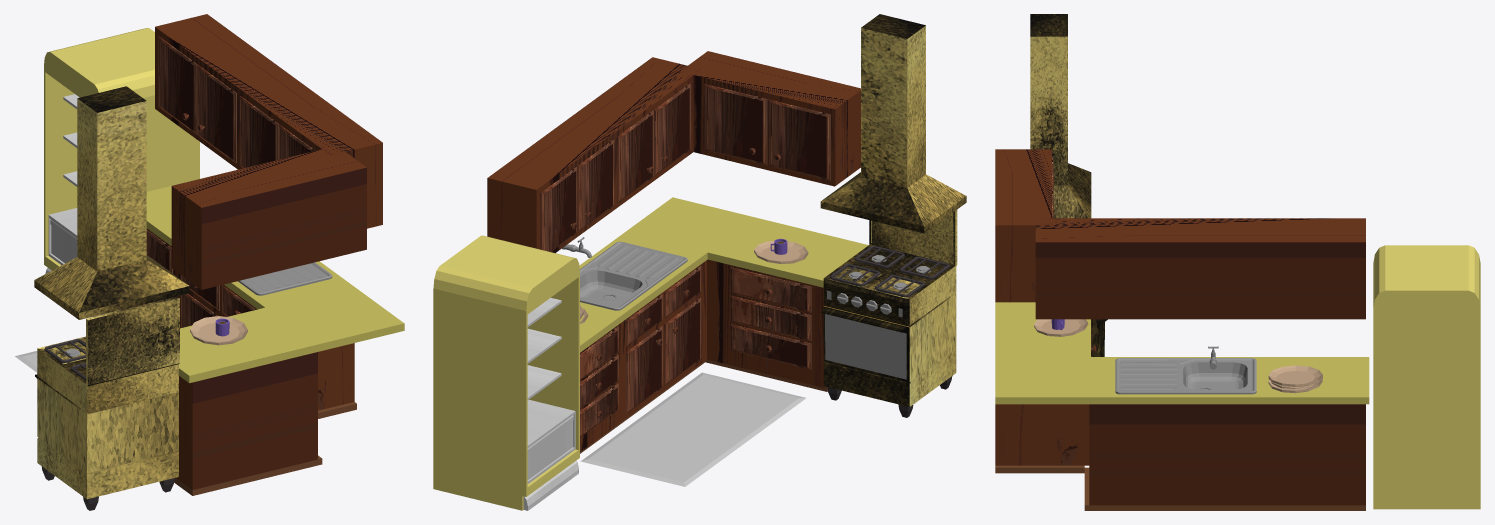
The model's file is Quarto2.fbx.
3 renders of one model, left to right at view 1: azimuth 30°, elevation 25°; view 2: azimuth 150°, elevation 25°; view 3: azimuth 270°, elevation 25°, orthographic. The views are drawn at different scales.
Visible parts, largest first — view 1: BalcãoCozinha, fogao, Table.002, Frigorífico, TopoBancadaCozinha, LavaLouça, prato.003; view 2: BalcãoCozinha, Frigorífico, fogao, Table.002, TapeteCozinha, TopoBancadaCozinha, LavaLouça, prato.003; view 3: BalcãoCozinha, Frigorífico, TopoBancadaCozinha, Table.002, LavaLouça, prato.002, prato.003.
Boxes of the visible parts, x1,y1,x2,y2 form: BalcãoCozinha: [121, 14, 382, 495]; fogao: [35, 296, 179, 510]; Table.002: [34, 86, 189, 319]; Frigorífico: [44, 28, 199, 316]; TopoBancadaCozinha: [146, 186, 404, 383]; LavaLouça: [238, 262, 332, 295]; prato.003: [190, 316, 247, 345]; BalcãoCozinha: [487, 51, 860, 453]; Frigorífico: [433, 235, 579, 510]; fogao: [821, 210, 957, 417]; Table.002: [820, 14, 966, 233]; TapeteCozinha: [581, 372, 806, 486]; TopoBancadaCozinha: [579, 197, 868, 352]; LavaLouça: [562, 237, 687, 310]; prato.003: [754, 241, 808, 263]; BalcãoCozinha: [995, 149, 1365, 510]; Frigorífico: [1373, 245, 1480, 509]; TopoBancadaCozinha: [995, 302, 1369, 404]; Table.002: [1030, 14, 1091, 218]; LavaLouça: [1115, 346, 1256, 394]; prato.002: [1268, 365, 1322, 386]; prato.003: [1034, 319, 1088, 336].
Size of the model in its own units: 258 by 300 by 362.
